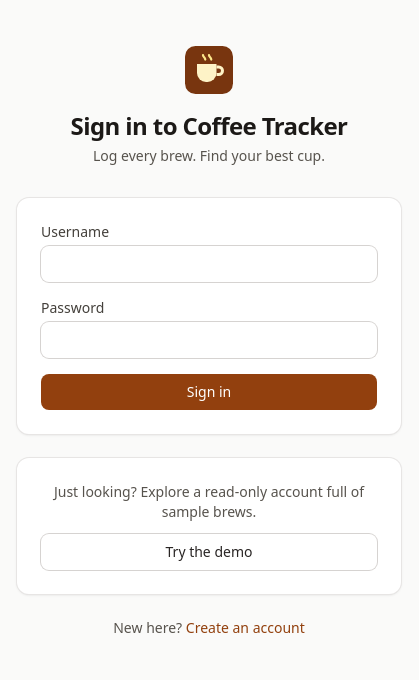
Test case: authentication › shows the server's message for wrong credentials
This screenshot has width=419, height=680.
Step 1. Type "alice" into the field labelled "Username" → (209,264), box [41,246,377,282]
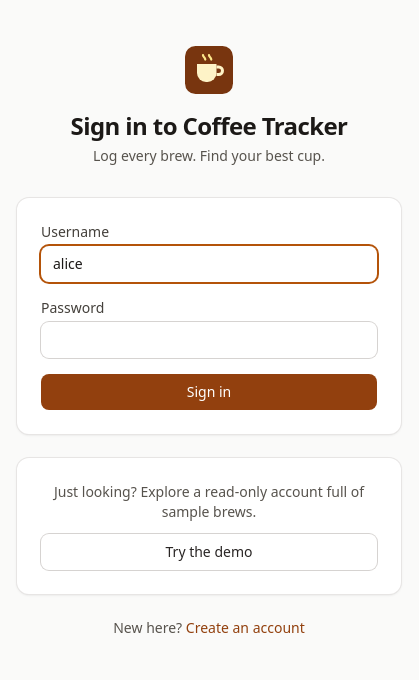
Step 2. Type "wrong-pass" into the password field labelled "Password" → (209,340), box [41,322,377,358]
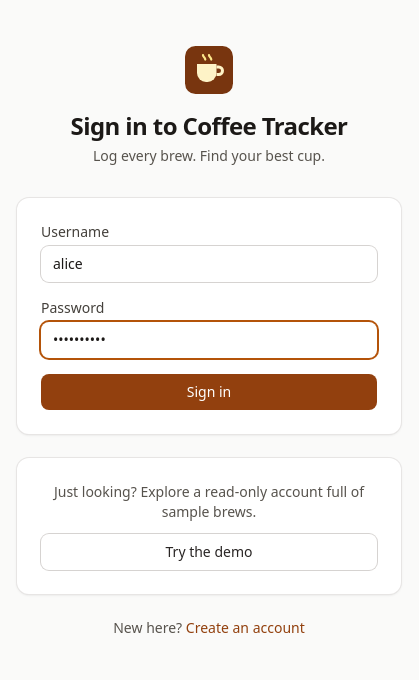
Step 3. Click the button "Sign in" → (209,392), box [41,374,377,410]
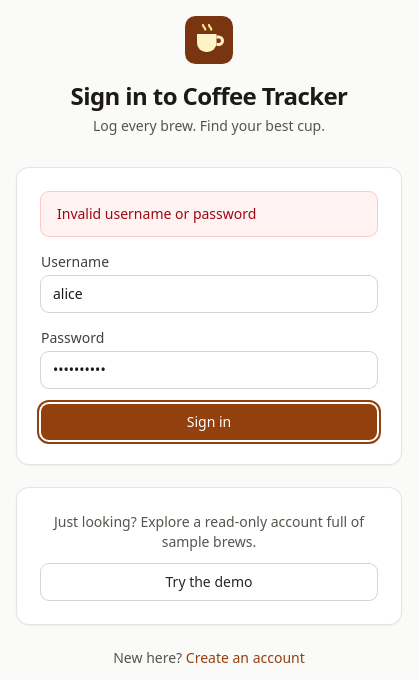
Expected: the message reads "Invalid username or password", [57,204,256,223]
